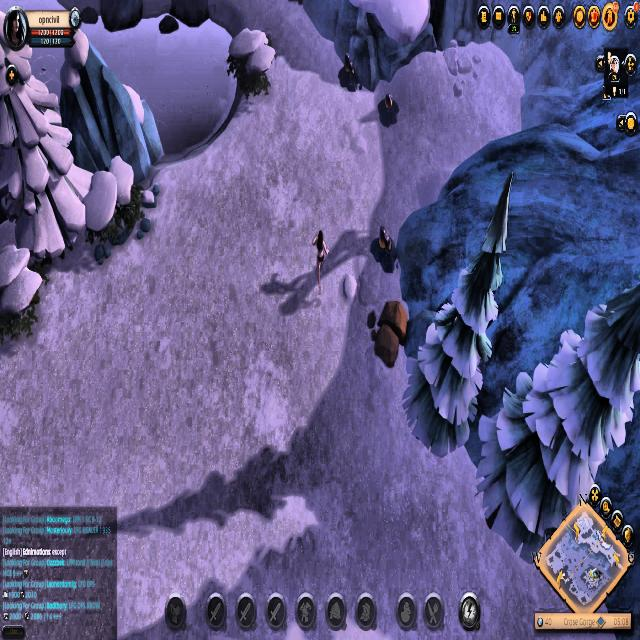copper_ore: (367, 228, 400, 274), (336, 46, 364, 100), (371, 92, 408, 131)
limestone: (366, 291, 414, 373)
